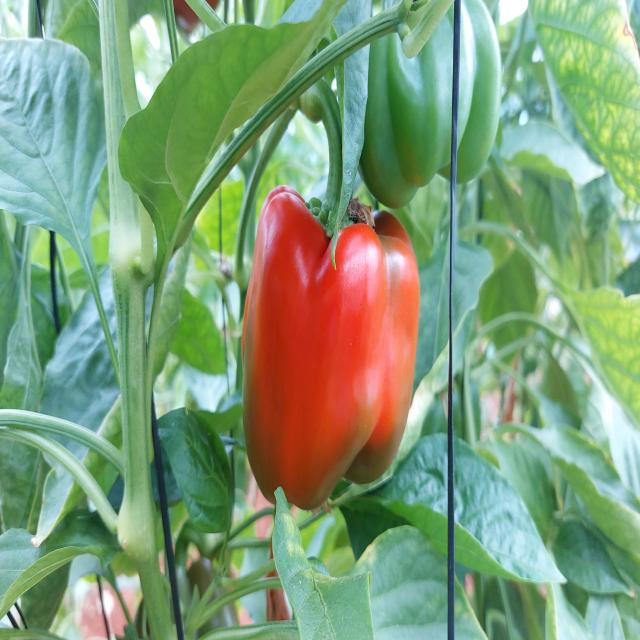Green--Not-ready-to-harvest: (377, 0, 505, 179)
Red-Ready-to-Harvest: (258, 211, 428, 516)
